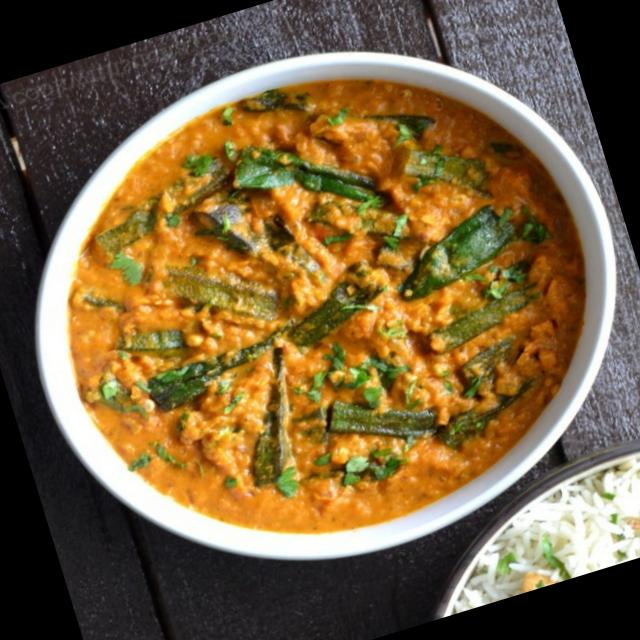BhindiMasala: (9, 15, 640, 596), (422, 440, 640, 614)
